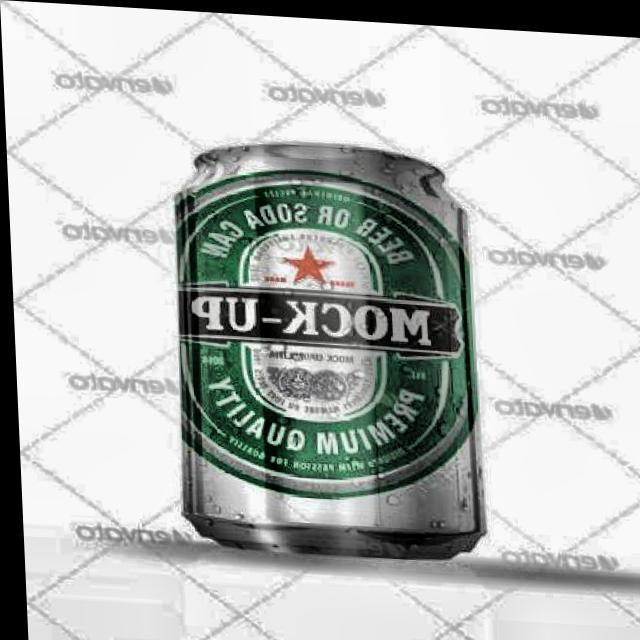can: (158, 121, 485, 563)
